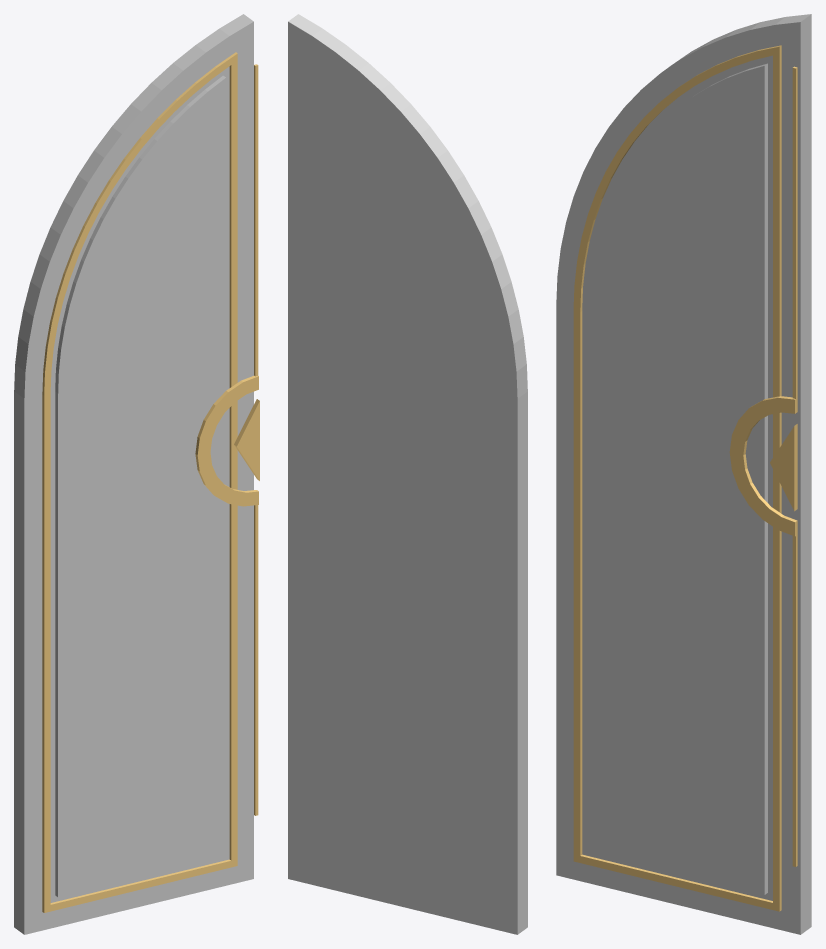
The model's file is door_leaf_L.gltf.
3 renders of one model, left to right at view 1: azimuth 30°, elevation 25°; view 2: azimuth 150°, elevation 25°; view 3: azimuth 330°, elevation 25°, orthographic. The views are drawn at different scales.
Parts seen in each view (by area): view 1: door_leaf_L; view 2: door_leaf_L; view 3: door_leaf_L.
Boxes of the visible parts, x1=… form: door_leaf_L: x1=14, y1=14, x2=259, y2=934; door_leaf_L: x1=288, y1=14, x2=527, y2=934; door_leaf_L: x1=556, y1=14, x2=811, y2=934.
Bounding box in the file's own units: 0.896 × 3.2 × 0.11.
